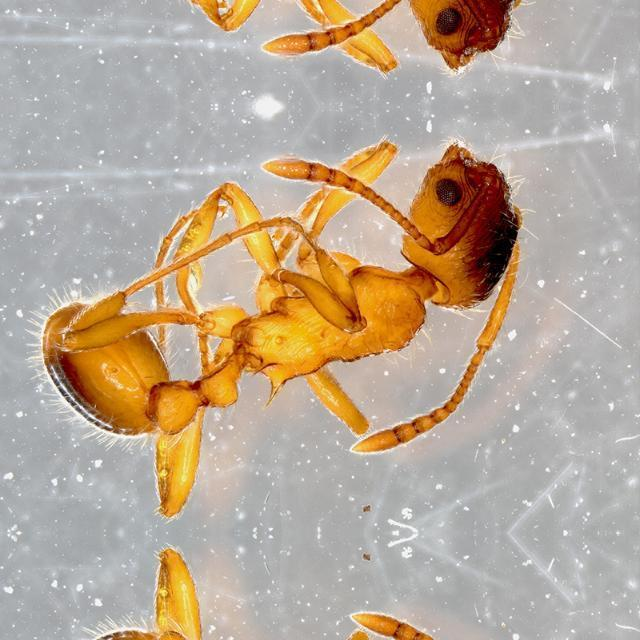Myrmica: (12, 129, 536, 475), (11, 0, 534, 82)
